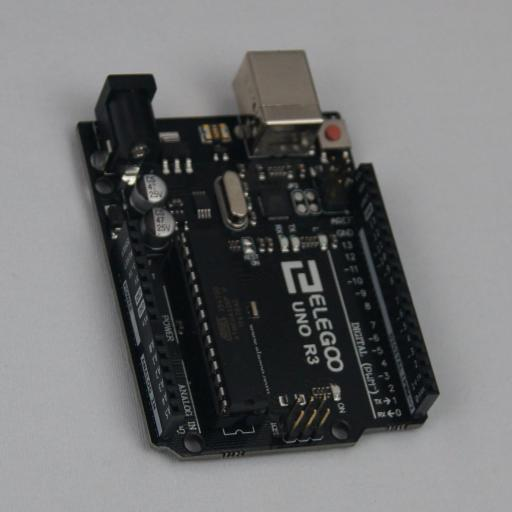Arduino Uno -Black-: (76, 52, 440, 462)
